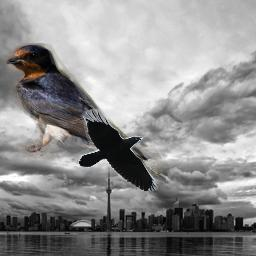Crow: (78, 108, 158, 191)
Swallow: (5, 43, 174, 189)
